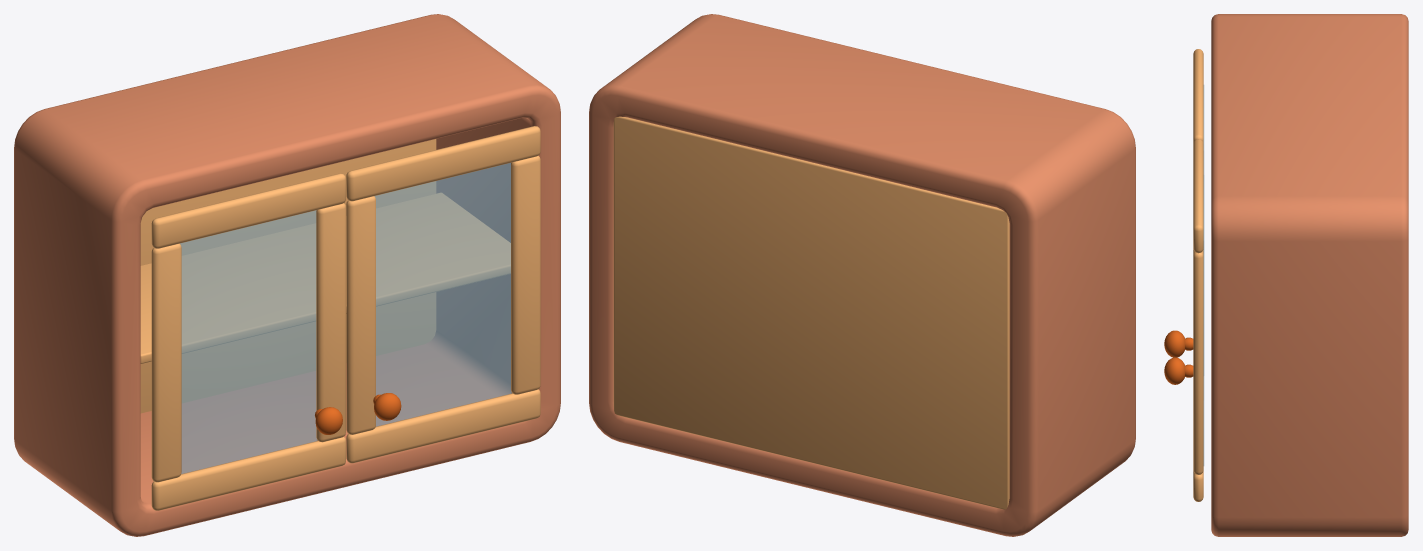
The model's file is armario_parede_vidro_campestre.glb.
3 renders of one model, left to right at view 1: azimuth 30°, elevation 25°; view 2: azimuth 150°, elevation 25°; view 3: azimuth 270°, elevation 25°, orthographic. The views are drawn at different scales.
Visible parts, largest first — view 1: armario_parede_vidro_campestre, porta_2, porta_1; view 2: armario_parede_vidro_campestre; view 3: armario_parede_vidro_campestre, porta_2, porta_1.
Part boxes in pixels (x1,y1,x2,y2): armario_parede_vidro_campestre: [14, 14, 560, 536]; porta_2: [346, 126, 540, 463]; porta_1: [151, 173, 345, 510]; armario_parede_vidro_campestre: [589, 14, 1135, 536]; armario_parede_vidro_campestre: [1211, 14, 1408, 536]; porta_2: [1164, 139, 1204, 501]; porta_1: [1164, 49, 1204, 357].
Bounding box in the file's own units: 0.792 × 0.6 × 0.3936.
2 materials, 1 textured.
